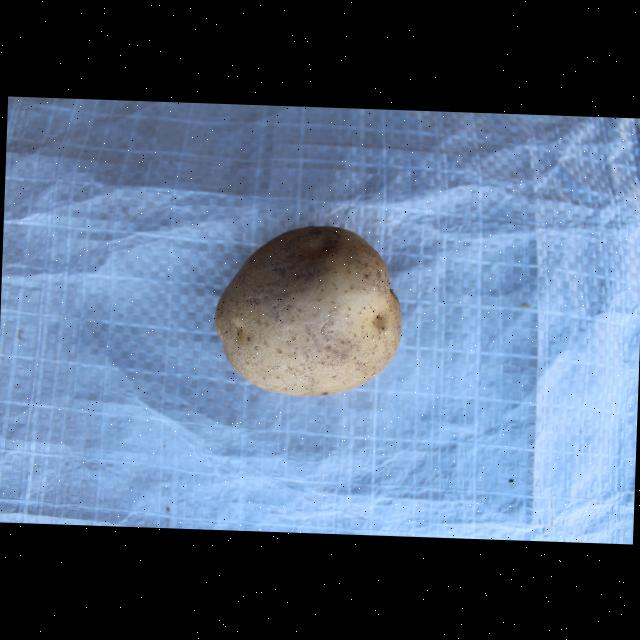Diseased-fungal potato: (212, 218, 412, 400)
